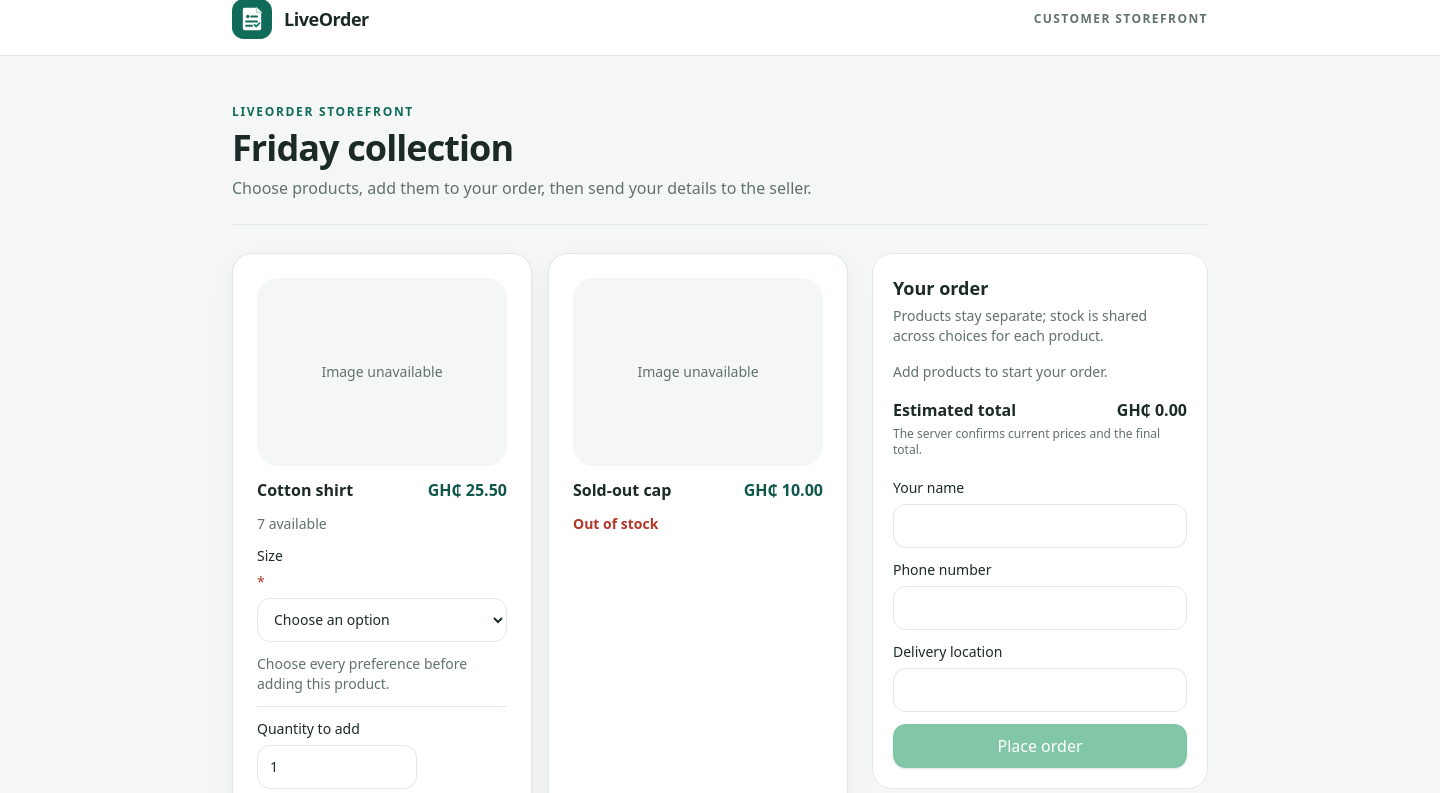
public customer ordering › reuses the submission key when retrying after a committed response is lost
Select "M" in the dropdown named "Choose Size for Cotton shirt" at (382, 620), box [257,598,507,642]
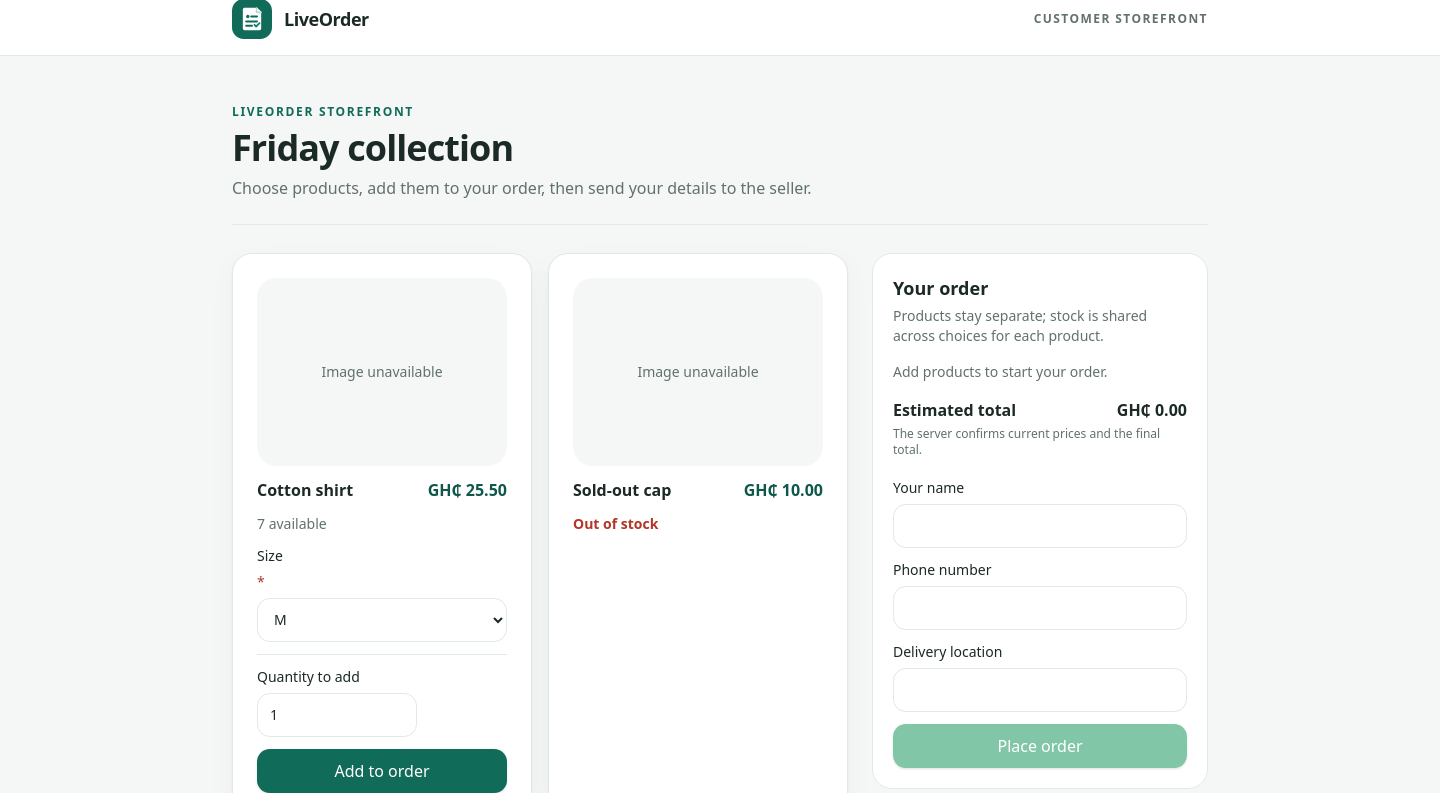
Replace the text in the number field named "Quantity to add for Cotton shirt" with "2" at (337, 714), box [257,692,417,736]
Click the button "Add to order" at (382, 770), box [257,748,507,792]
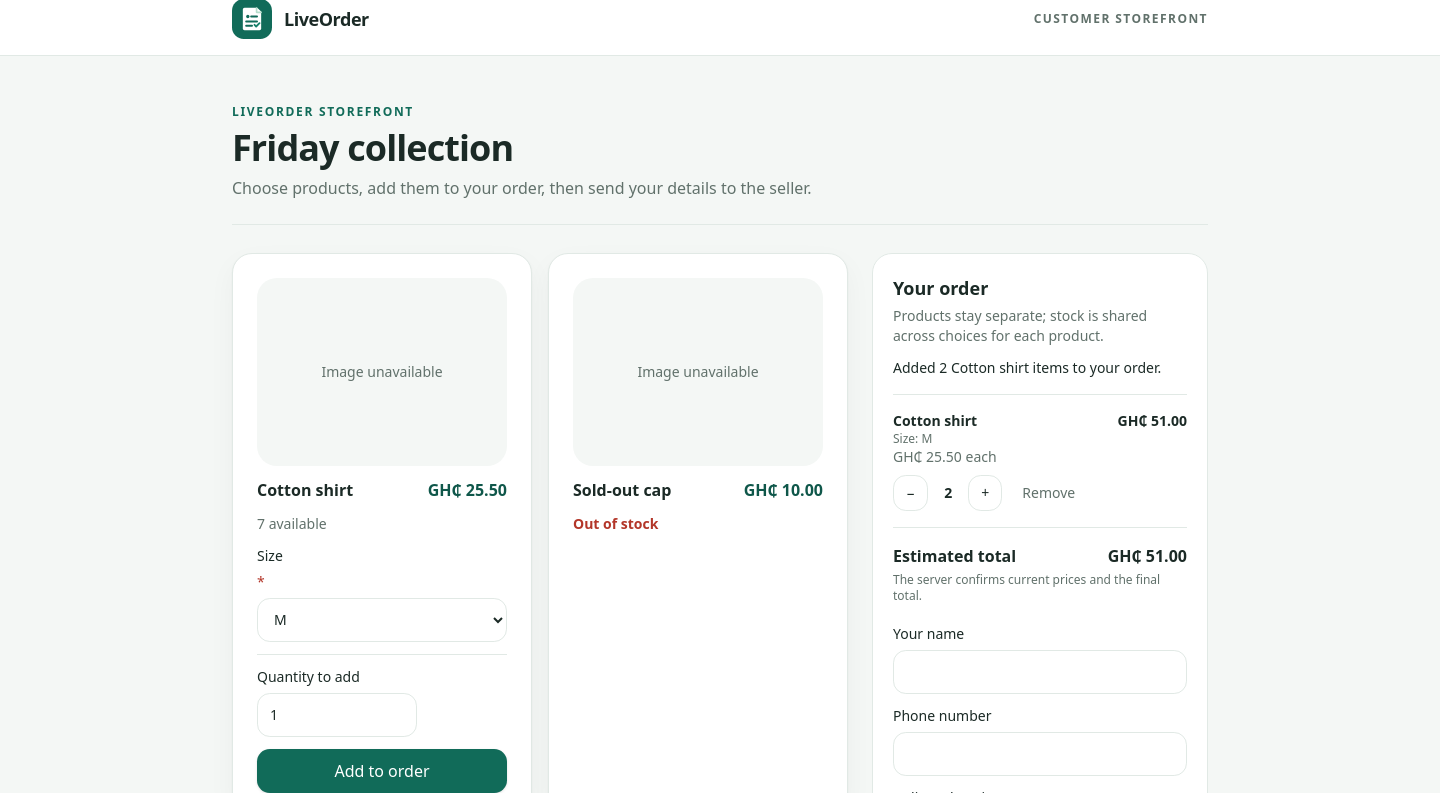
Type "Ama Mensah" into the field labelled "Your name" at (1040, 672), box [893,650,1187,694]
Type "0241234567" into the field labelled "Phone number" at (1040, 754), box [893,732,1187,776]
(page scrolled)
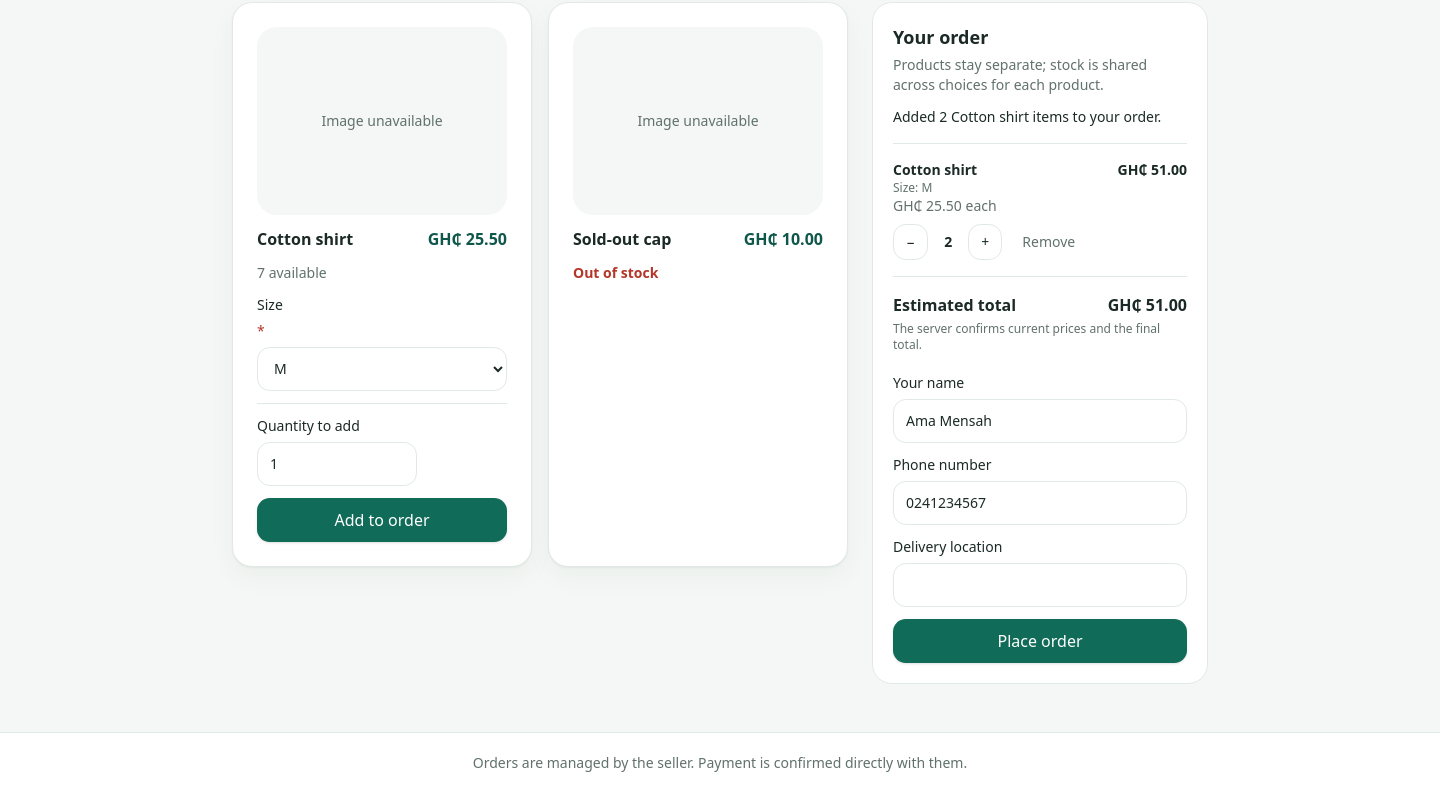
Type "Madina, Accra" into the field labelled "Delivery location" at (1040, 585), box [893,563,1187,607]
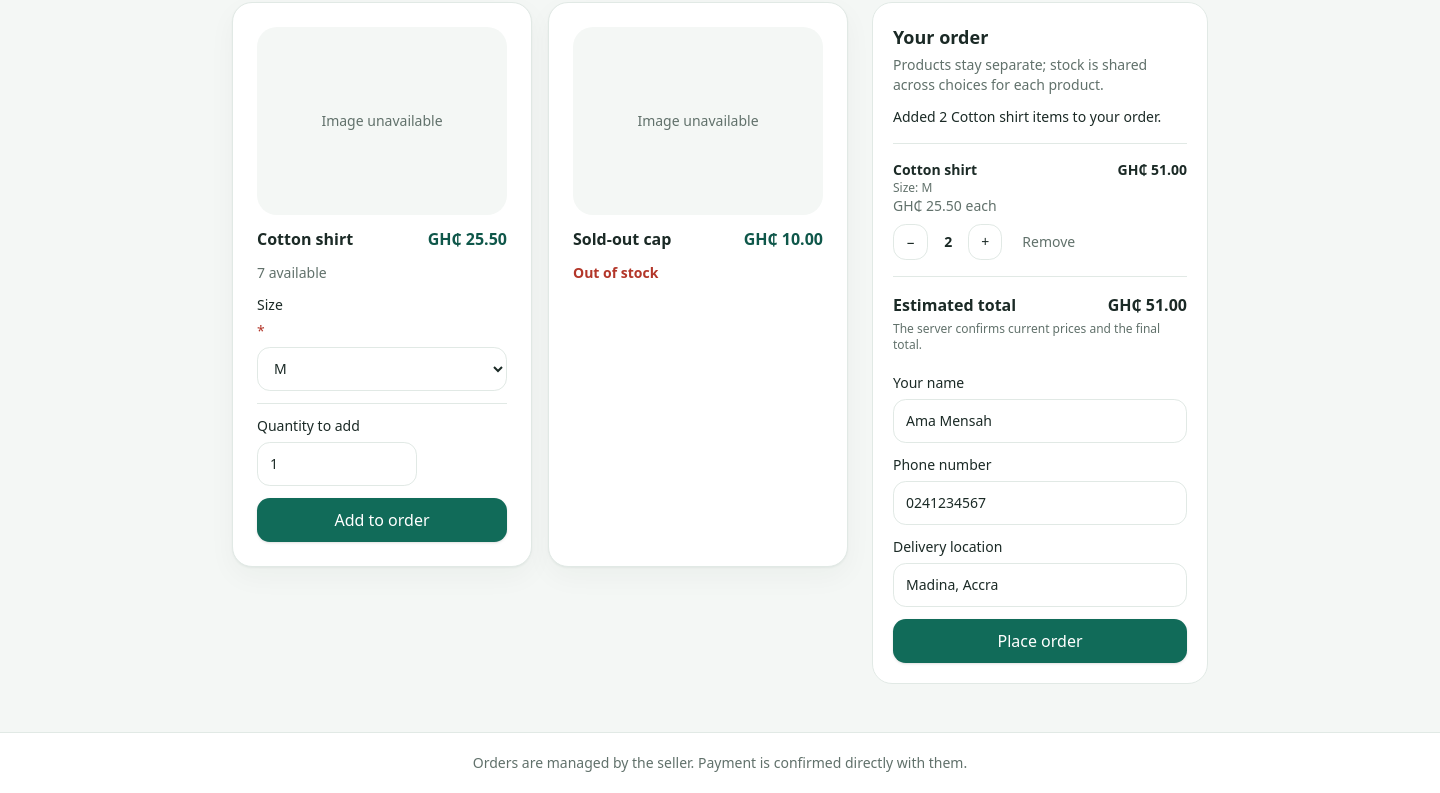
Click the button "Place order" at (1040, 641), box [893,619,1187,663]
(page scrolled)
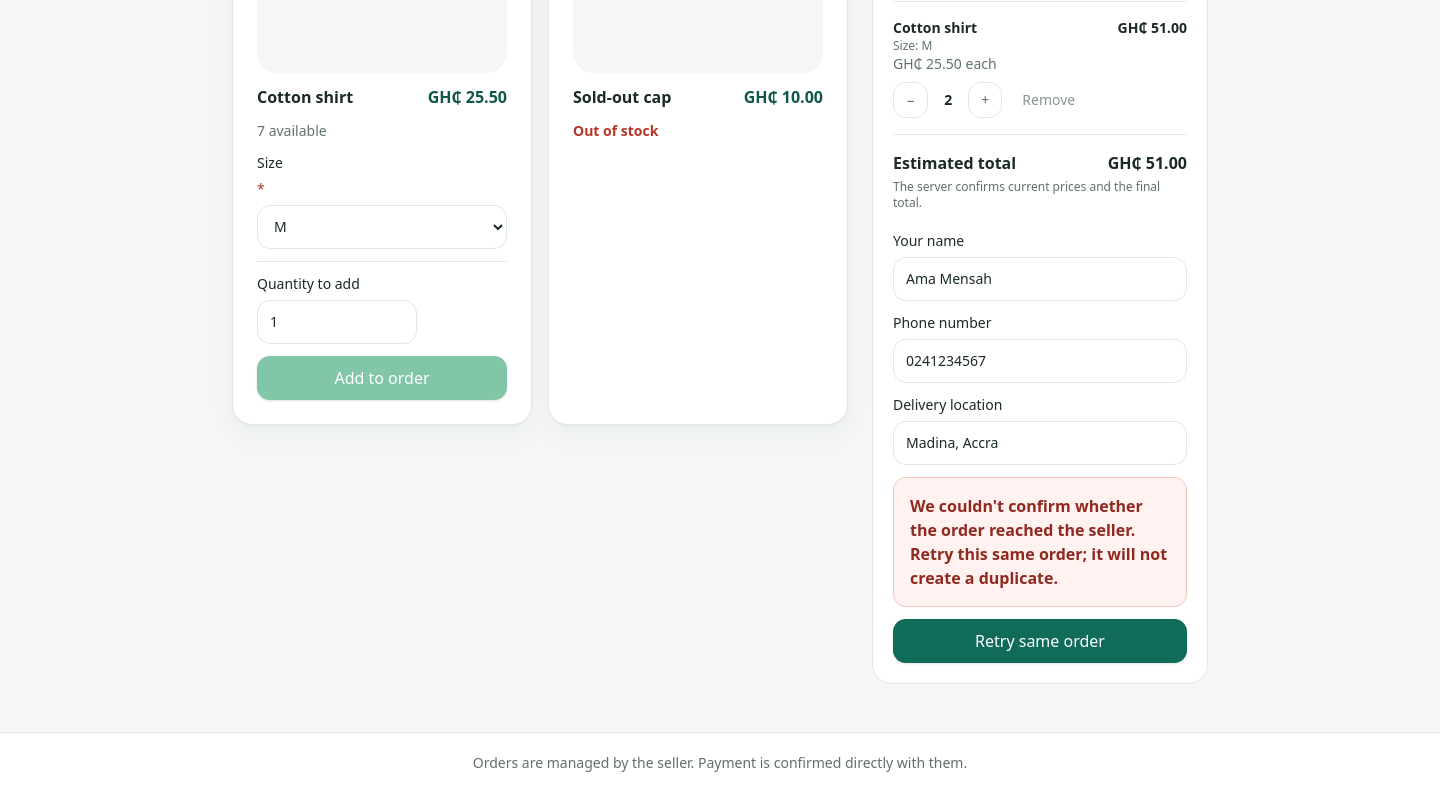
Now the text "couldn't confirm whether the order reached the seller" is shown, box [910,495,1167,589]
Click the button "Retry same order" at (1040, 641), box [893,619,1187,663]
(page scrolled)
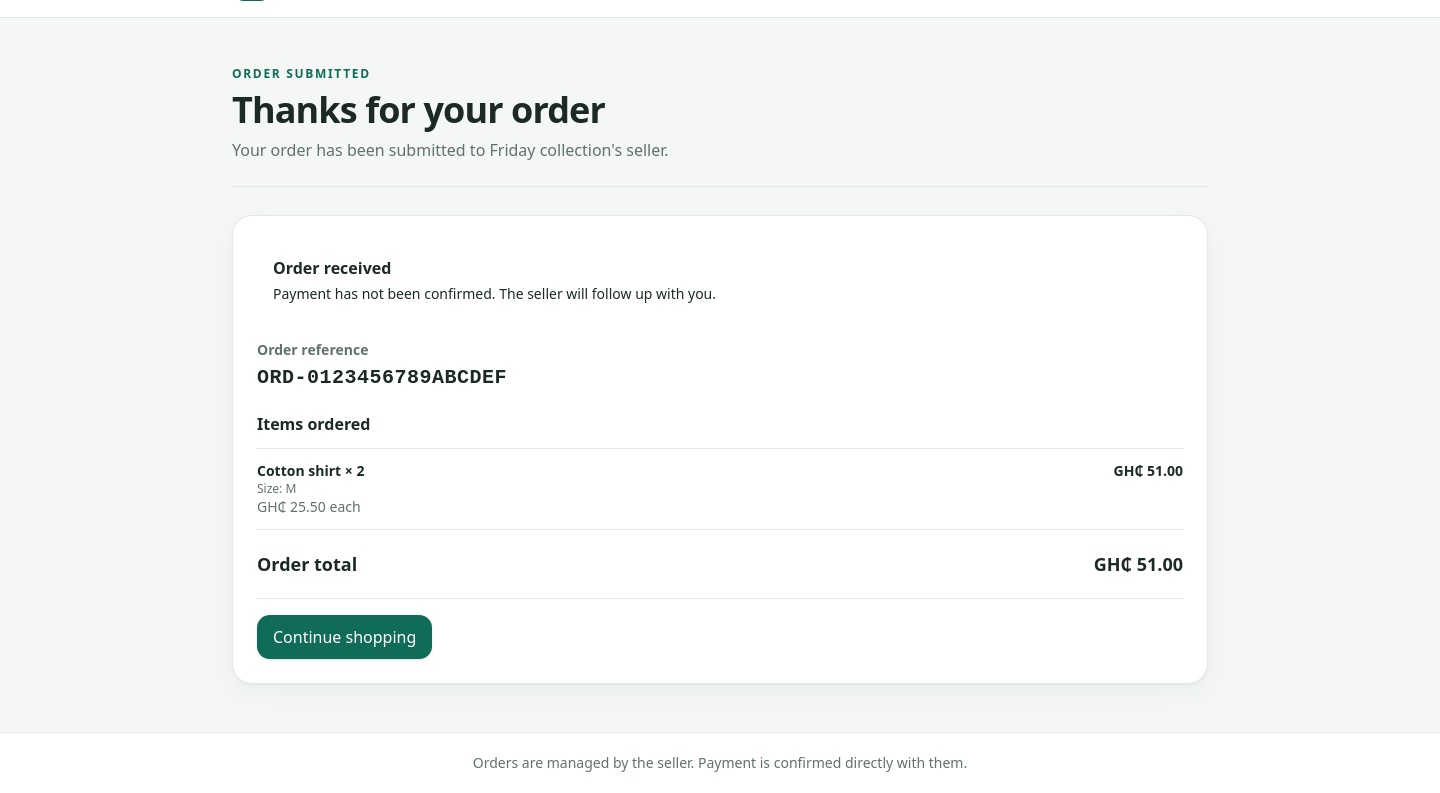
Now the heading "Thanks for your order" is shown, box [232,90,668,130]
